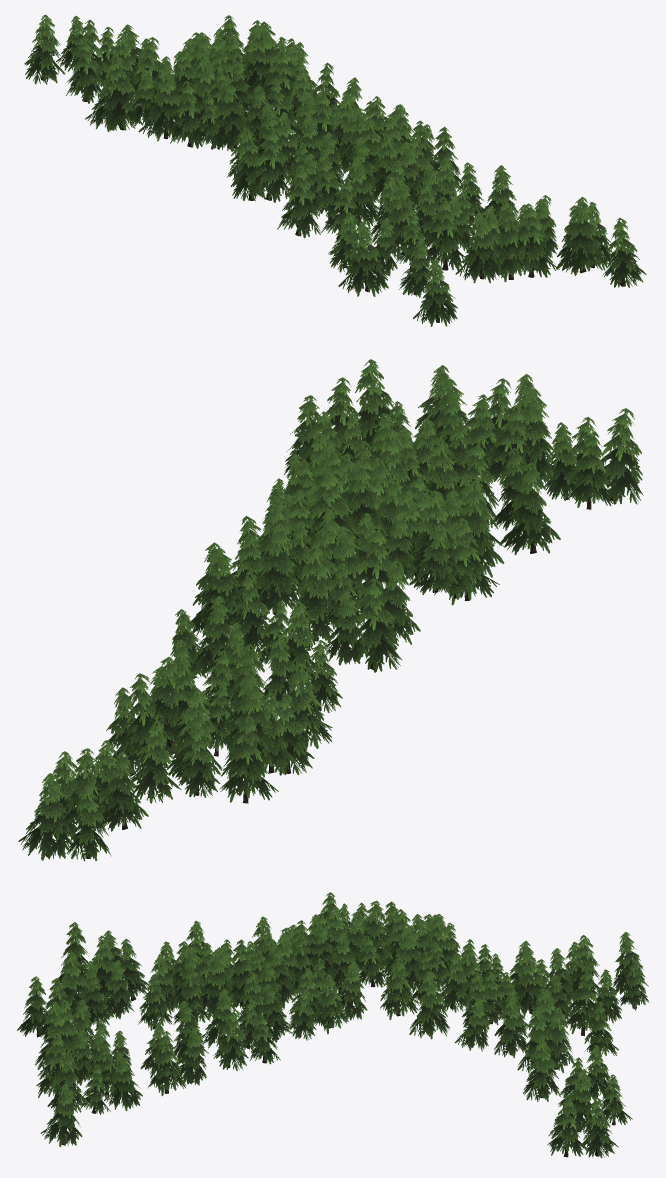
Rendered from Trees_02.fbx.
The picture shows the model from 3 angles, top to bottom: view 1: azimuth 30°, elevation 25°; view 2: azimuth 150°, elevation 25°; view 3: azimuth 270°, elevation 25°; orthographic projection. The views are drawn at different scales.
Parts seen in each view (by area): view 1: polySurface4288; view 2: polySurface4288; view 3: polySurface4288.
Part boxes in pixels (box(x1,y1,x2,y2)): polySurface4288: box(24, 14, 646, 326); polySurface4288: box(18, 359, 643, 861); polySurface4288: box(17, 892, 649, 1158).
Size of the model in its own units: 5453 by 4013 by 10842.
